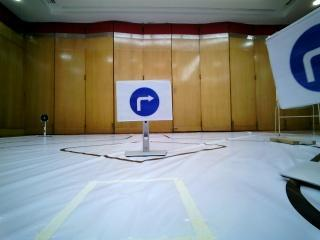right: (130, 86, 161, 118)
